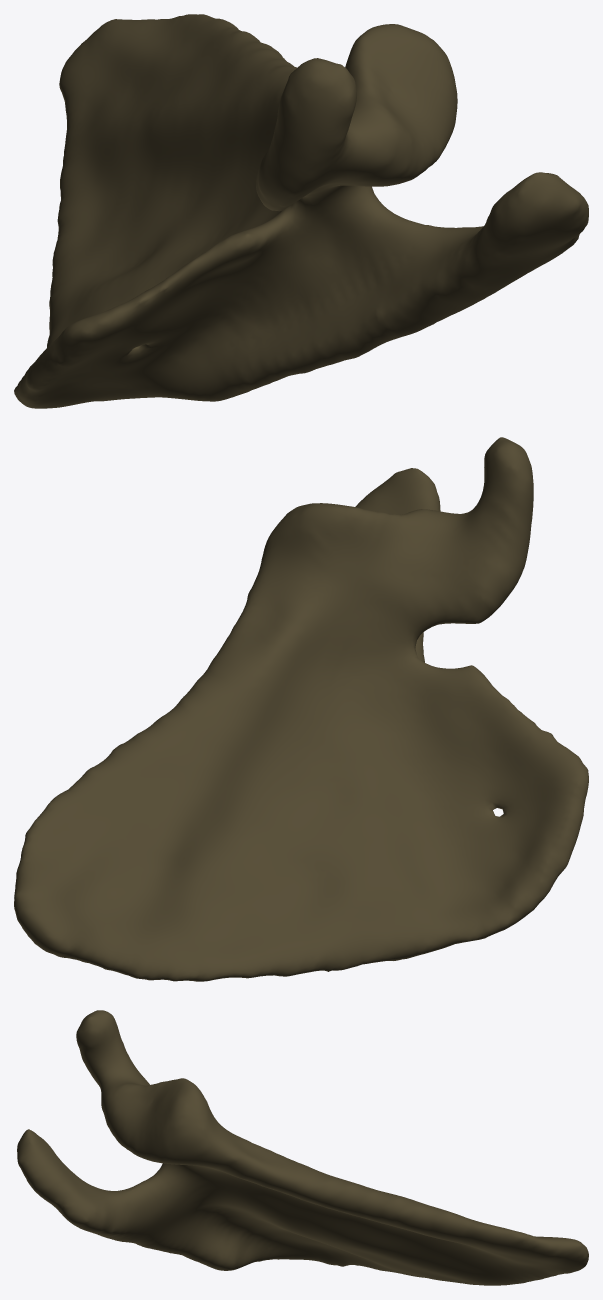
Rendered from segmentations_scapula_right.obj.
The picture shows the model from 3 angles, top to bottom: view 1: azimuth 30°, elevation 25°; view 2: azimuth 150°, elevation 25°; view 3: azimuth 270°, elevation 25°; orthographic projection. The views are drawn at different scales.
Parts seen in each view (by area): view 1: grp1; view 2: grp1; view 3: grp1.
Boxes of the visible parts, bbox=[...] form: grp1: bbox=[14, 14, 588, 408]; grp1: bbox=[14, 437, 588, 981]; grp1: bbox=[17, 1010, 588, 1285].
Bounding box in the file's own units: 61.47 × 61.43 × 116.
